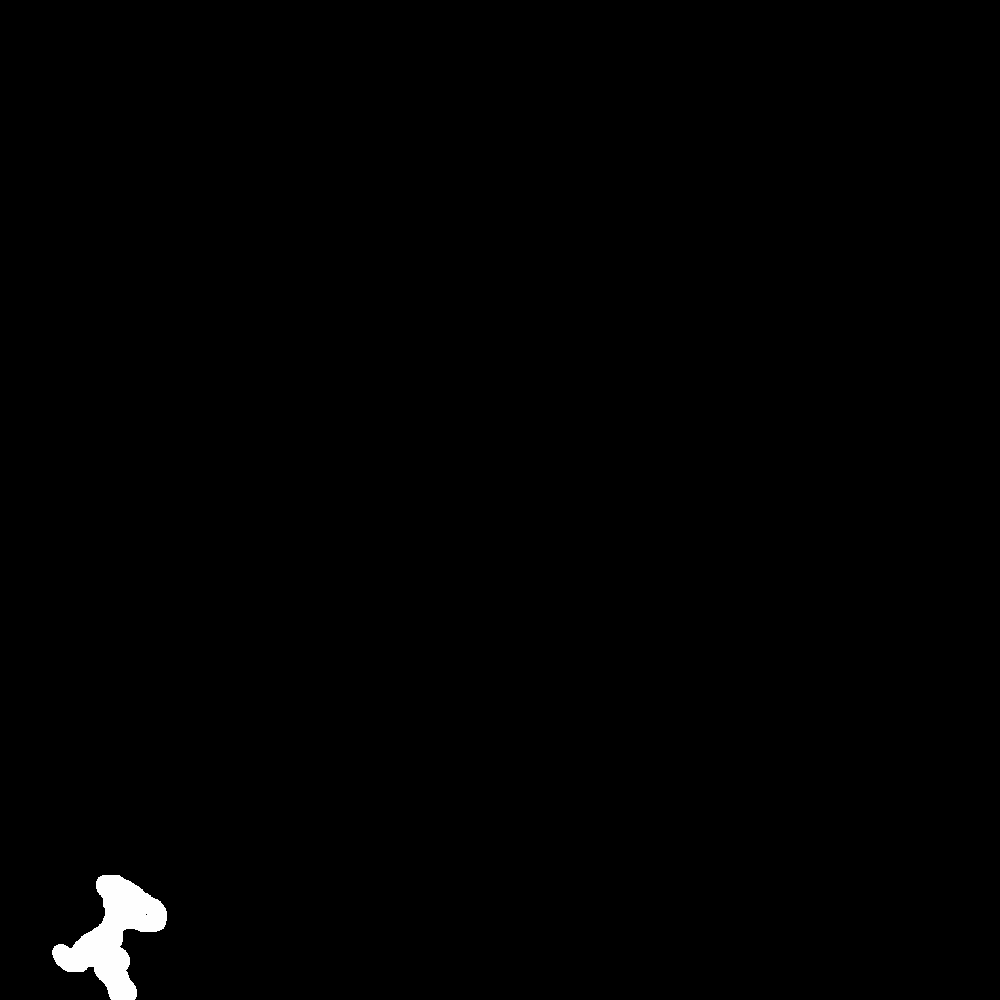illegal: (53, 874, 164, 1000)
